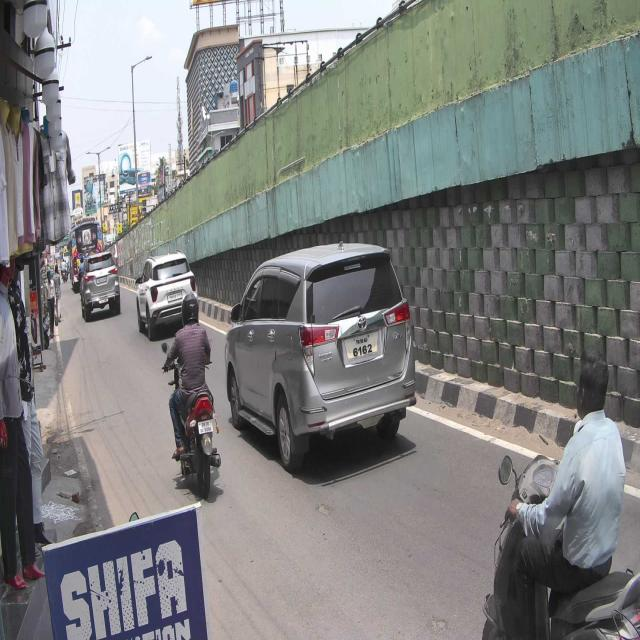single_rider: (480, 341, 640, 640), (161, 291, 223, 501)
